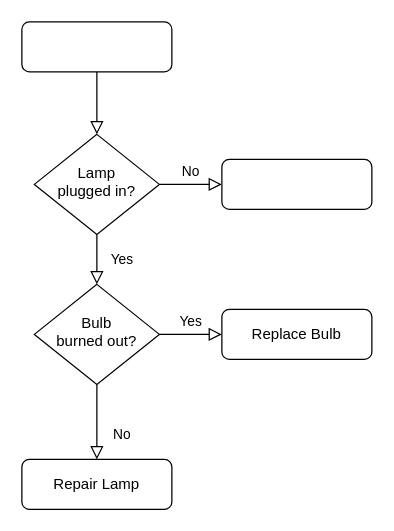
The diagram is 394 pixels wide and 531 high, and some of its shapes have lost their labels. The shapes that lost their labels are listed below. From the top down, each one's centre as x and y in pixels, then its label:
pixel 96 46: Login
pixel 296 183: Plug in lamp
